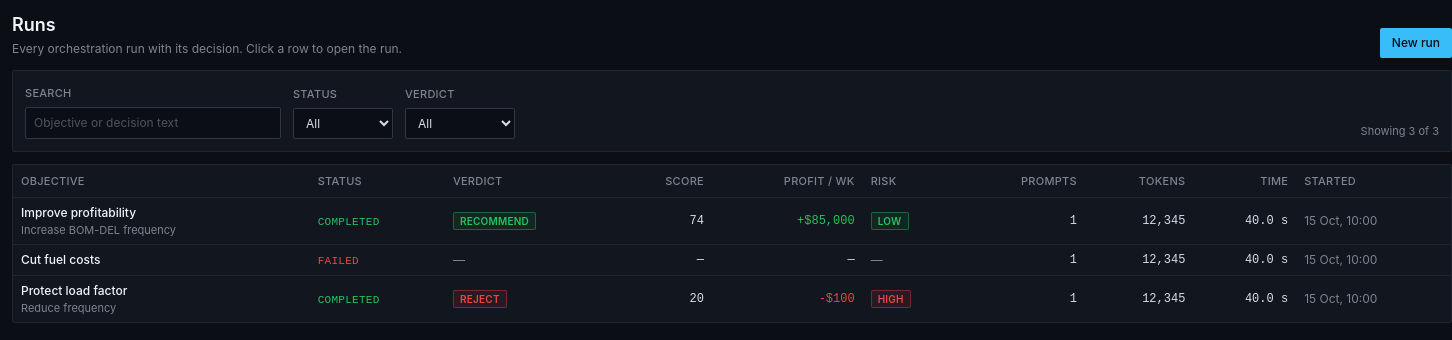
Test: RunsPage › explains when filters match nothing and offers to clear them
Expected: the table with test id "runs-table" is shown, x1=13 y1=165 x2=1451 y2=322
Type "zzz-no-match" into the search field labelled "Search".
click(153, 123); type("zzz-no-match")  # box x1=25 y1=107 x2=281 y2=139
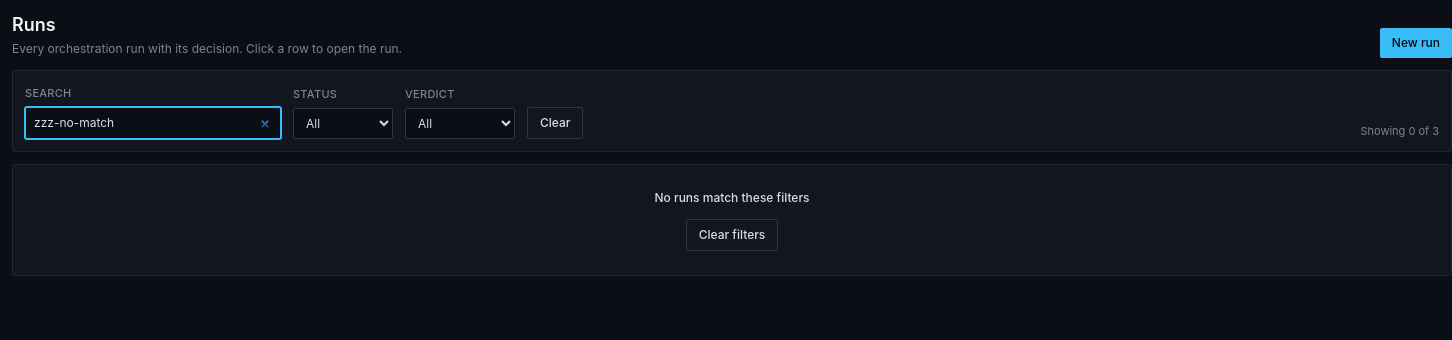
Now the text "No runs match these filters" is shown, box x1=654 y1=189 x2=810 y2=207
Click the button "Clear filters".
click(732, 235)  # box x1=686 y1=219 x2=778 y2=251
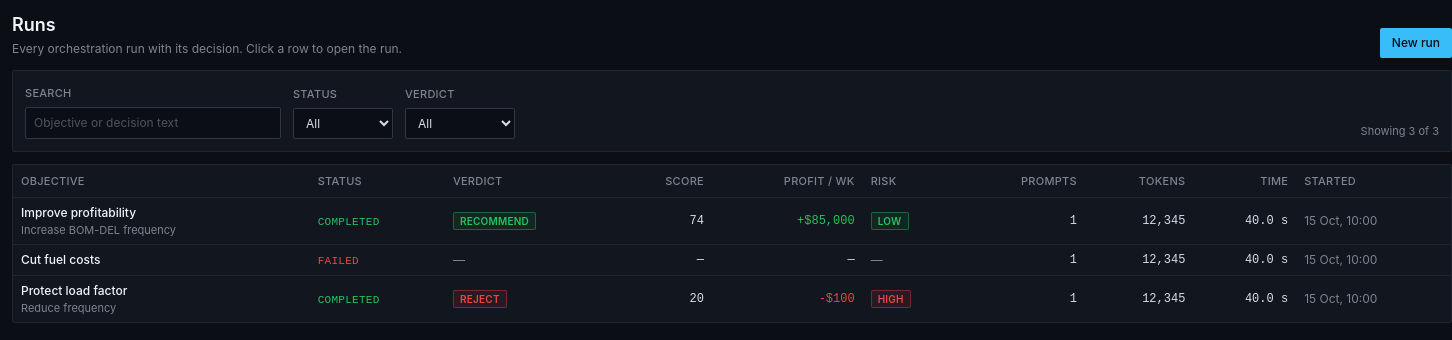
Now the table with test id "runs-table" is shown, box x1=13 y1=165 x2=1451 y2=322
